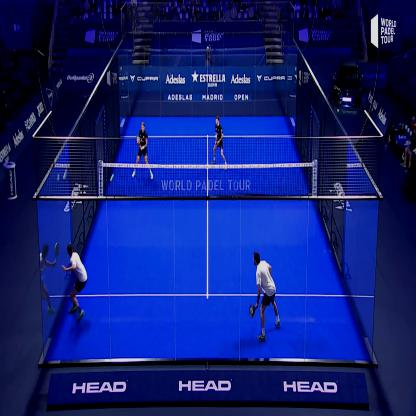ball: (106, 170, 116, 186)
